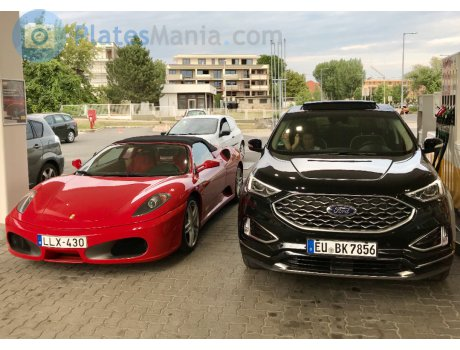License Plates: (315, 240, 376, 254), (46, 237, 83, 244)
